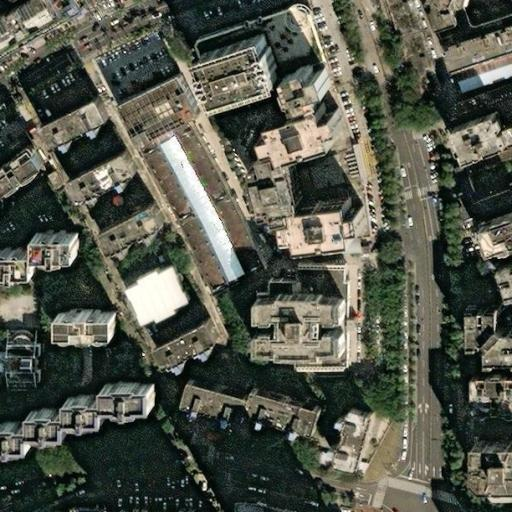building: (132, 117, 257, 288), (288, 66, 370, 245), (202, 9, 327, 80), (247, 269, 340, 361), (207, 35, 290, 108), (111, 71, 193, 143), (247, 295, 332, 361), (417, 0, 512, 53), (3, 2, 84, 62), (250, 86, 300, 168), (262, 109, 340, 161), (441, 45, 512, 100), (284, 203, 362, 252), (232, 388, 309, 436), (435, 24, 512, 71), (250, 156, 300, 226), (118, 265, 179, 320), (145, 315, 208, 368), (460, 309, 512, 371), (434, 84, 512, 125), (62, 154, 125, 204), (90, 203, 153, 251), (174, 378, 237, 423), (34, 96, 97, 140), (321, 407, 364, 470), (389, 36, 429, 103), (467, 452, 512, 511), (0, 146, 48, 200), (447, 120, 501, 168), (440, 136, 503, 175), (457, 375, 512, 417), (3, 328, 37, 386), (472, 218, 512, 261), (98, 379, 149, 412), (473, 452, 512, 494), (288, 73, 319, 115), (464, 192, 512, 219), (52, 308, 105, 331), (26, 229, 67, 258), (488, 259, 512, 305), (61, 393, 98, 421), (26, 407, 61, 436), (449, 176, 469, 221), (0, 420, 26, 450), (265, 217, 293, 239), (494, 126, 512, 152), (309, 454, 334, 472), (247, 319, 266, 338), (288, 238, 301, 252), (234, 506, 261, 512), (247, 353, 266, 361), (146, 509, 172, 512), (189, 509, 202, 512), (118, 509, 129, 512)
